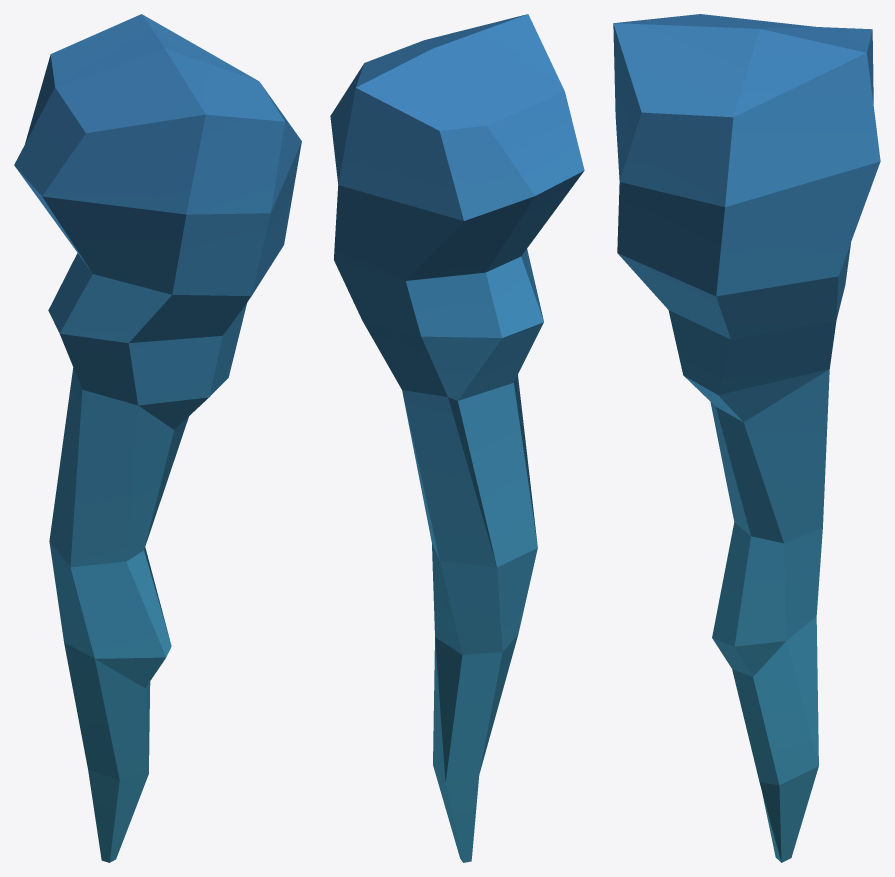
Rendered from SM_Gen_Env_Stalactite_02.glb.
3 renders of one model, left to right at view 1: azimuth 30°, elevation 25°; view 2: azimuth 150°, elevation 25°; view 3: azimuth 270°, elevation 25°, orthographic. The views are drawn at different scales.
Parts seen in each view (by area): view 1: SM_Gen_Env_Stalactite_02; view 2: SM_Gen_Env_Stalactite_02; view 3: SM_Gen_Env_Stalactite_02.
Part boxes in pixels (x1=…): SM_Gen_Env_Stalactite_02: x1=14, y1=14, x2=301, y2=862; SM_Gen_Env_Stalactite_02: x1=330, y1=14, x2=584, y2=862; SM_Gen_Env_Stalactite_02: x1=613, y1=14, x2=880, y2=862.
Bounding box in the file's own units: 0.838 × 2.5 × 0.708.
Materials: 1 (1 with a texture image).
